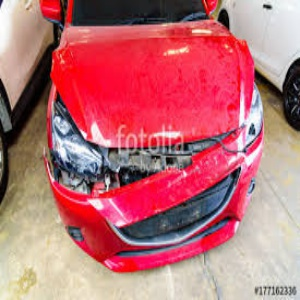bumper: (32, 166, 219, 271)
head_lights: (46, 111, 104, 184)
